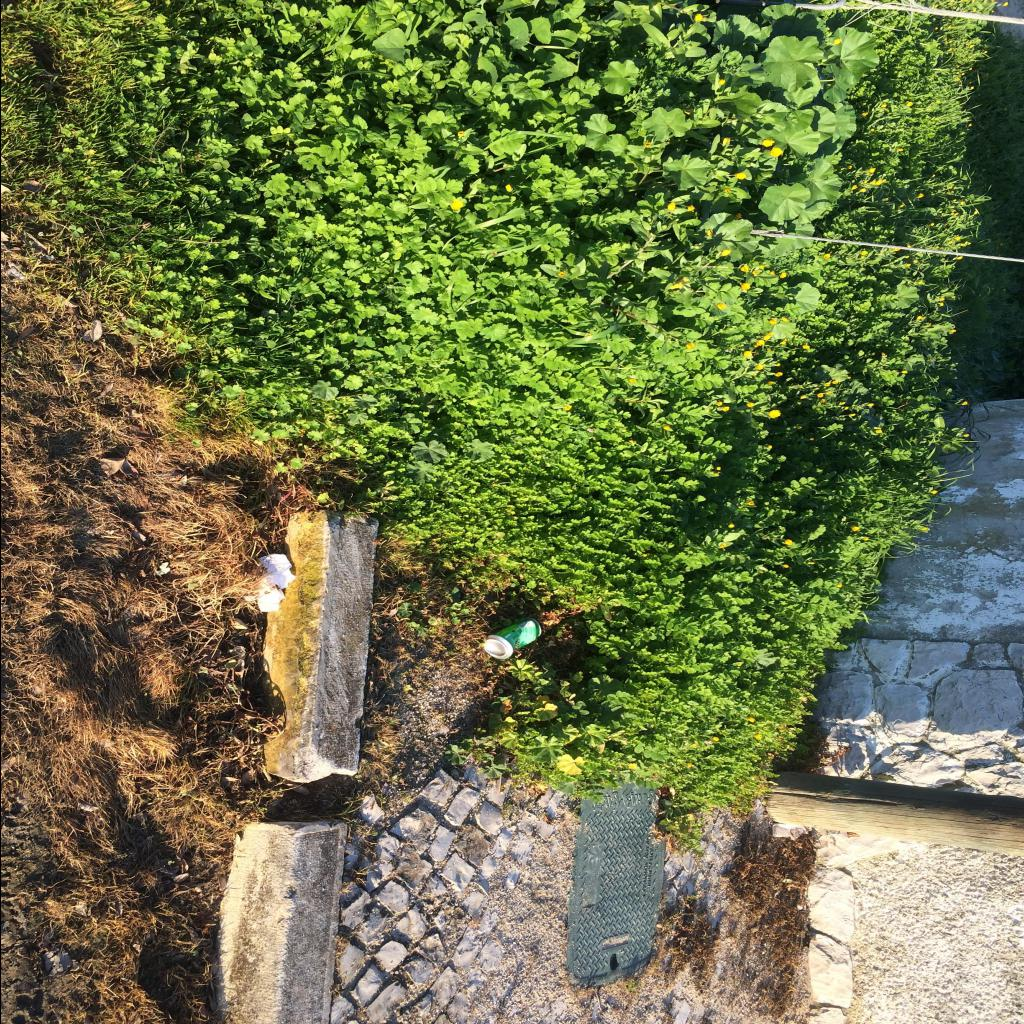Drink can: (484, 617, 540, 659)
Unlabeled litter: (245, 554, 295, 612)
